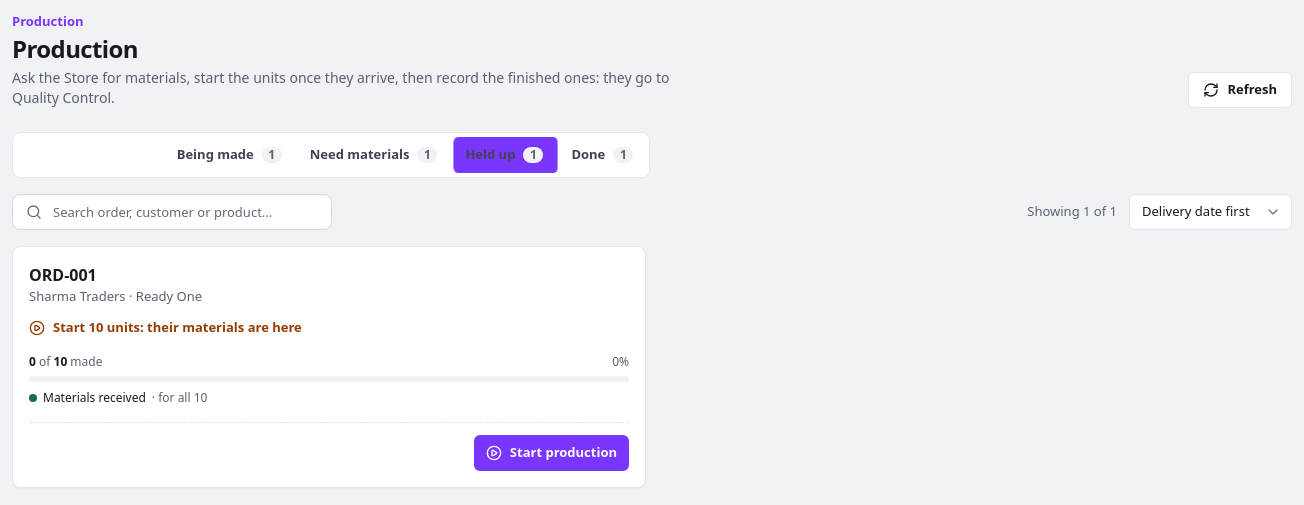
Test case: Production page › opens on Ready to start, counts every tab and leaves drafts out
Expected: the text "Sharma Traders · Ready One" is shown, 29,286 -> 202,306
Expected: the text "Start 10 units: their materials are here" is shown, 29,318 -> 302,336
Click the button "Need materials 1". click: (374, 154)
box: 298,136 -> 449,172
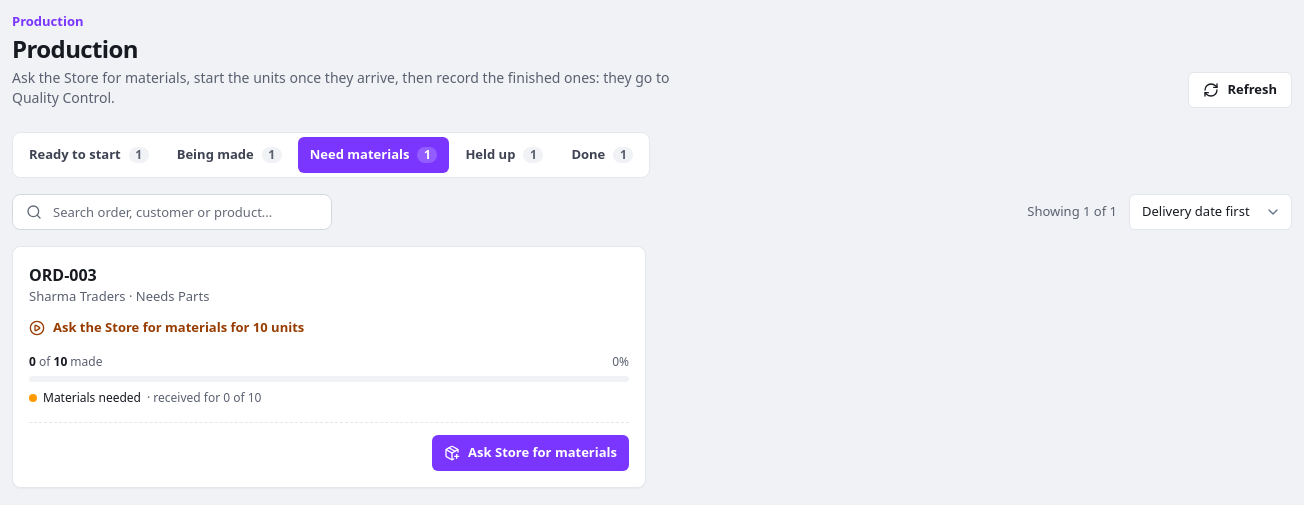
Expected: the text "Ask the Store for materials for 10 units" is shown, 29,318 -> 304,336
Expected: the button "Ask Store for materials" is shown, 432,434 -> 629,470
Click the button "Held up 1". click: (504, 154)
box: 453,136 -> 555,172
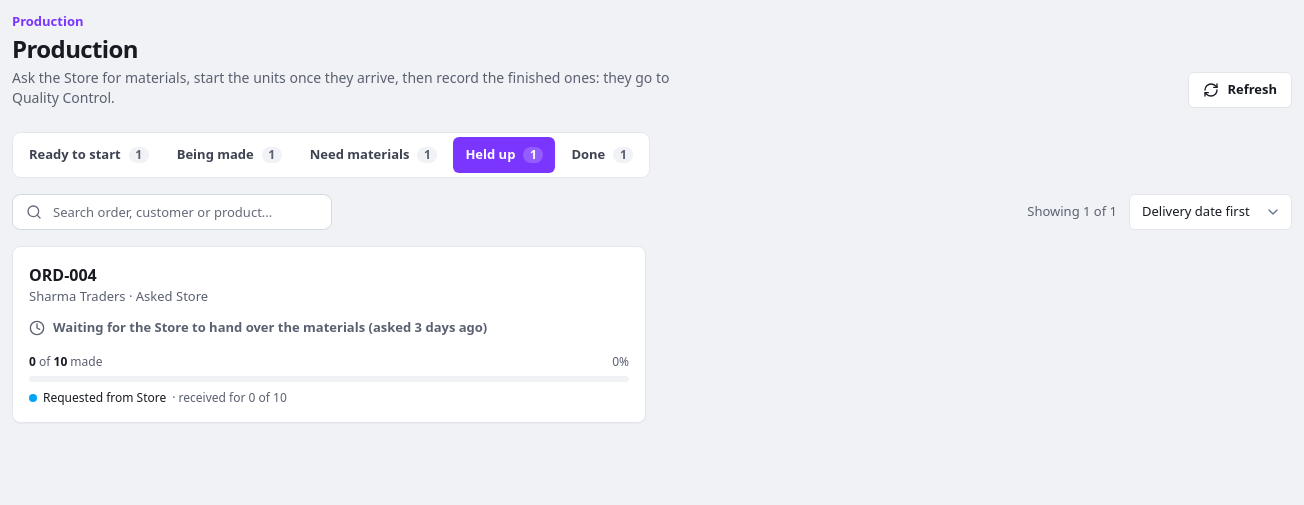
Expected: the text "Waiting for the Store to hand over the materials (asked 3 days ago)" is shown, 29,318 -> 487,336
